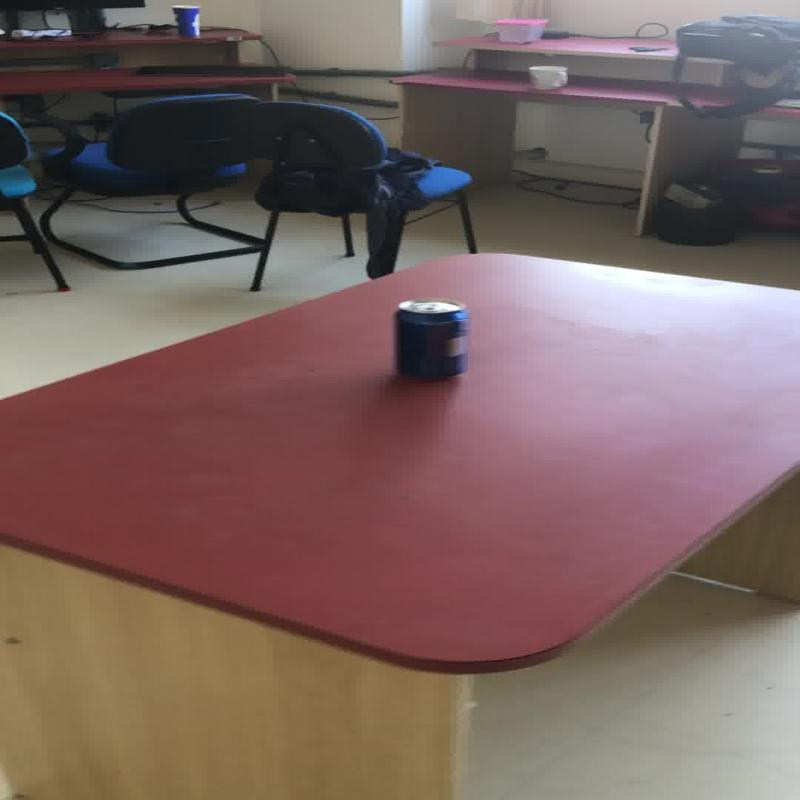tonic: (391, 296, 469, 378), (170, 4, 200, 37)
